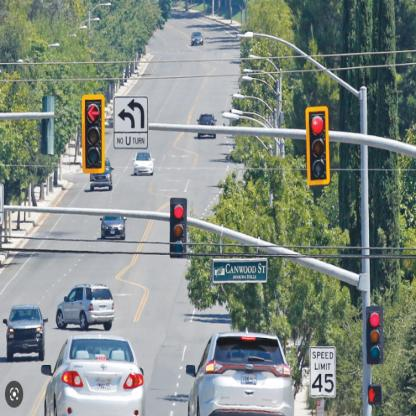left-red: (83, 96, 105, 172)
red: (306, 109, 328, 184), (366, 306, 383, 364), (171, 197, 187, 258)
